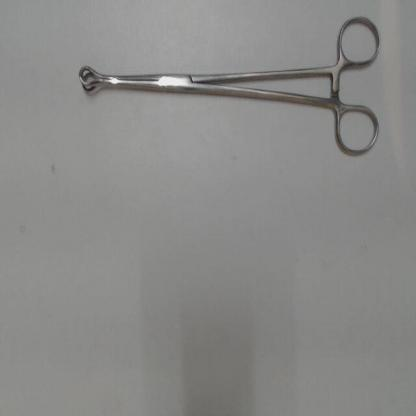8 Babcock Tissue Forceps: (74, 8, 384, 163)
